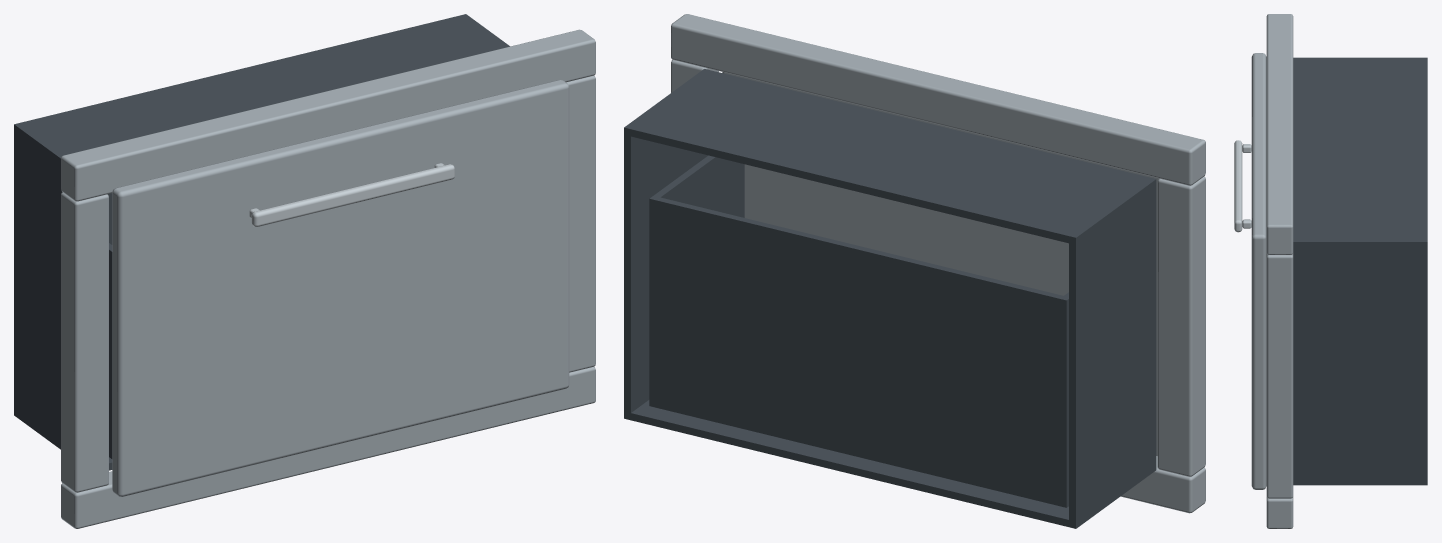
Rendered from SM_StockHatch_Kasa.glb.
3 renders of one model, left to right at view 1: azimuth 30°, elevation 25°; view 2: azimuth 150°, elevation 25°; view 3: azimuth 270°, elevation 25°, orthographic. The views are drawn at different scales.
Visible parts, largest first — view 1: Drawer, SM_StockHatch_Kasa; view 2: SM_StockHatch_Kasa, Drawer; view 3: SM_StockHatch_Kasa, Drawer.
Boxes of the visible parts, box(x1,y1,x2,y2) form: Drawer: box(107, 80, 569, 496); SM_StockHatch_Kasa: box(14, 14, 595, 528); SM_StockHatch_Kasa: box(624, 14, 1205, 528); Drawer: box(649, 72, 1158, 507); SM_StockHatch_Kasa: box(1266, 14, 1427, 528); Drawer: box(1234, 53, 1266, 489).
Bounding box in the file's own units: 0.75 × 0.5 × 0.288.
3 materials, 3 textured.
